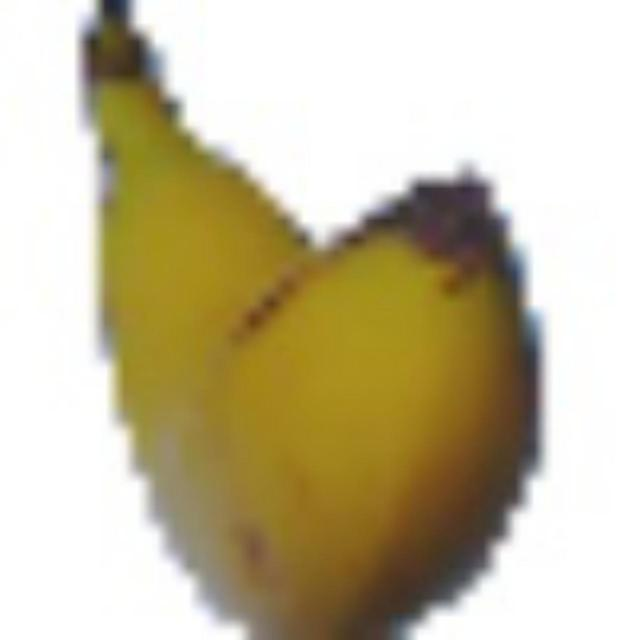banana: (51, 0, 551, 634)
